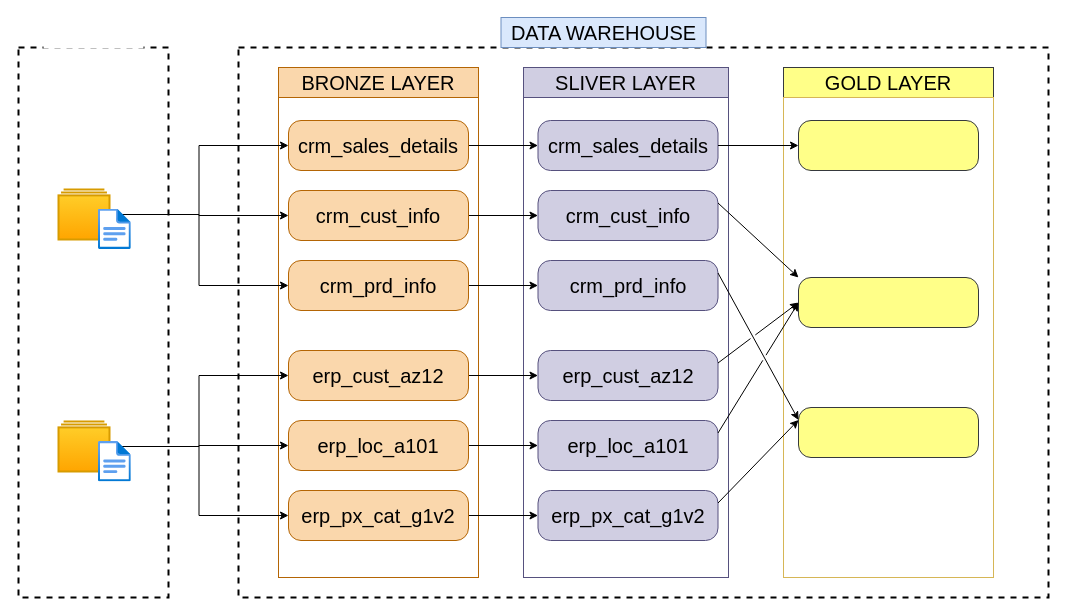
Image size: 1066x616. Some labels were removed from this diagram. The shapes that lost their labels are listed below. From the top down, each one's centre as x and y in pixels, then its label:
the point at 93,33: SOURCE
the point at 888,145: fact_sales
the point at 83,214: CRM
the point at 888,302: dim_customer
the point at 83,446: ERP
the point at 888,432: dim_products
